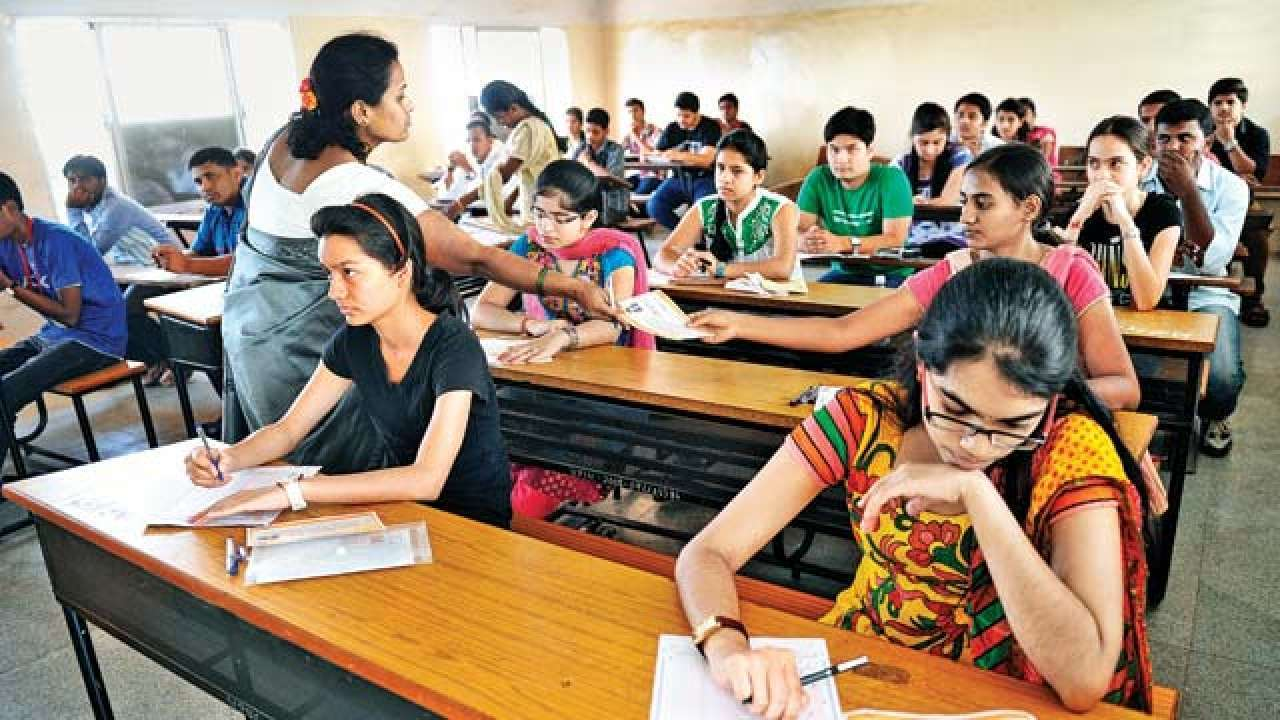student: (749, 269, 1178, 615), (227, 171, 514, 523), (826, 153, 1091, 326), (492, 154, 658, 365), (662, 125, 815, 291), (1089, 130, 1186, 323), (793, 115, 905, 266), (890, 104, 988, 198), (657, 88, 725, 190), (563, 105, 637, 197)
